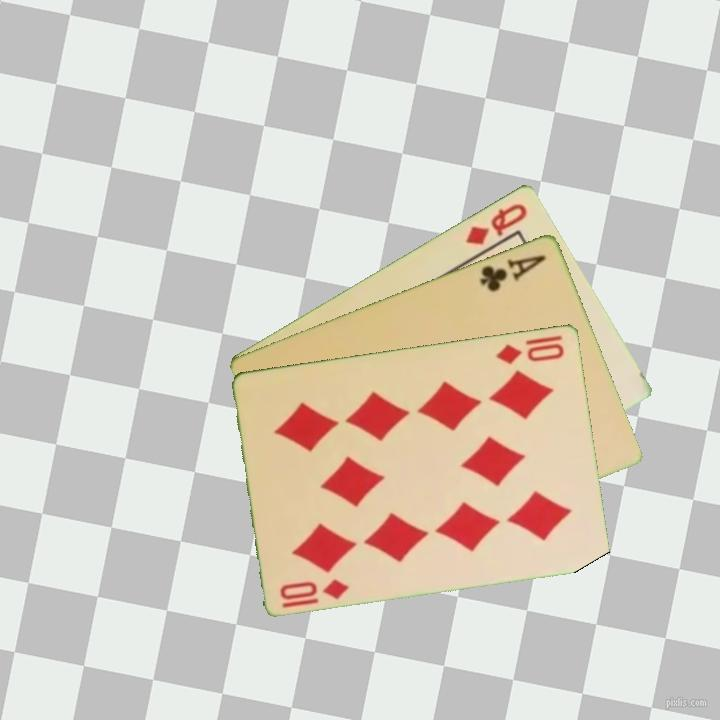10d: (493, 339, 568, 368), (276, 575, 352, 602)
Ac: (477, 250, 549, 295)
Qd: (462, 199, 531, 248)
